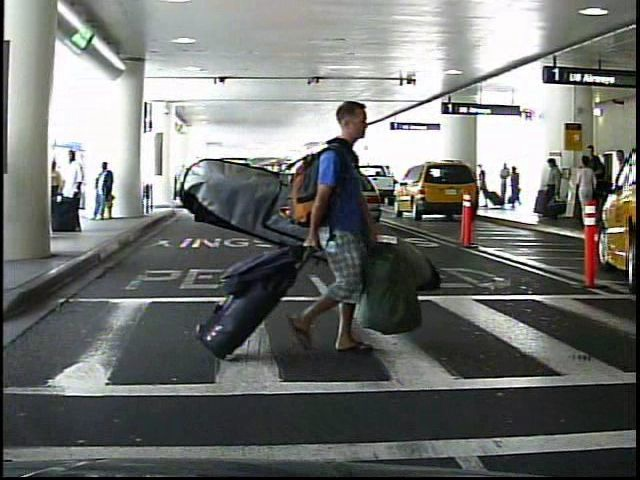person: (295, 89, 395, 369), (58, 146, 88, 234), (571, 155, 596, 227), (85, 160, 112, 226), (541, 157, 565, 224), (581, 143, 600, 221), (474, 161, 488, 209), (498, 162, 512, 209), (508, 163, 518, 207)
